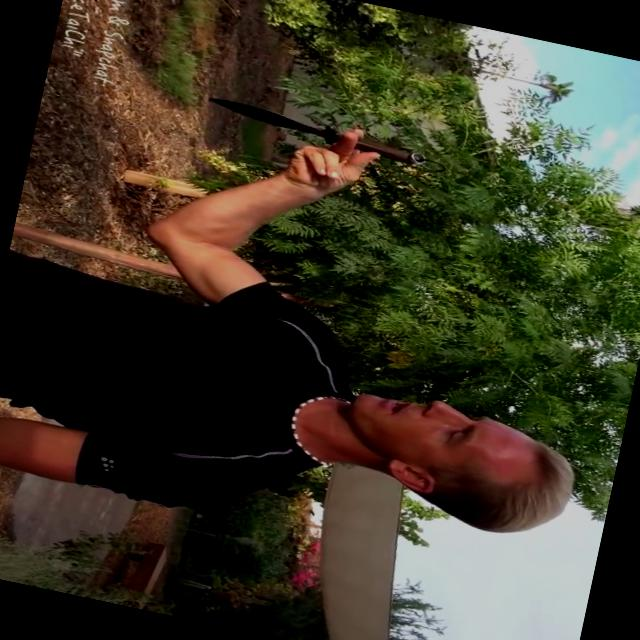knife: (186, 66, 454, 187)
